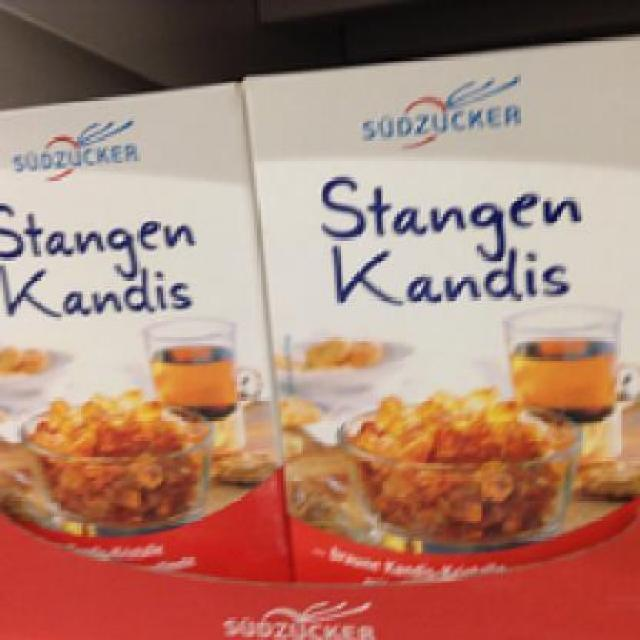Sugar: (240, 28, 637, 586), (0, 79, 292, 578)
